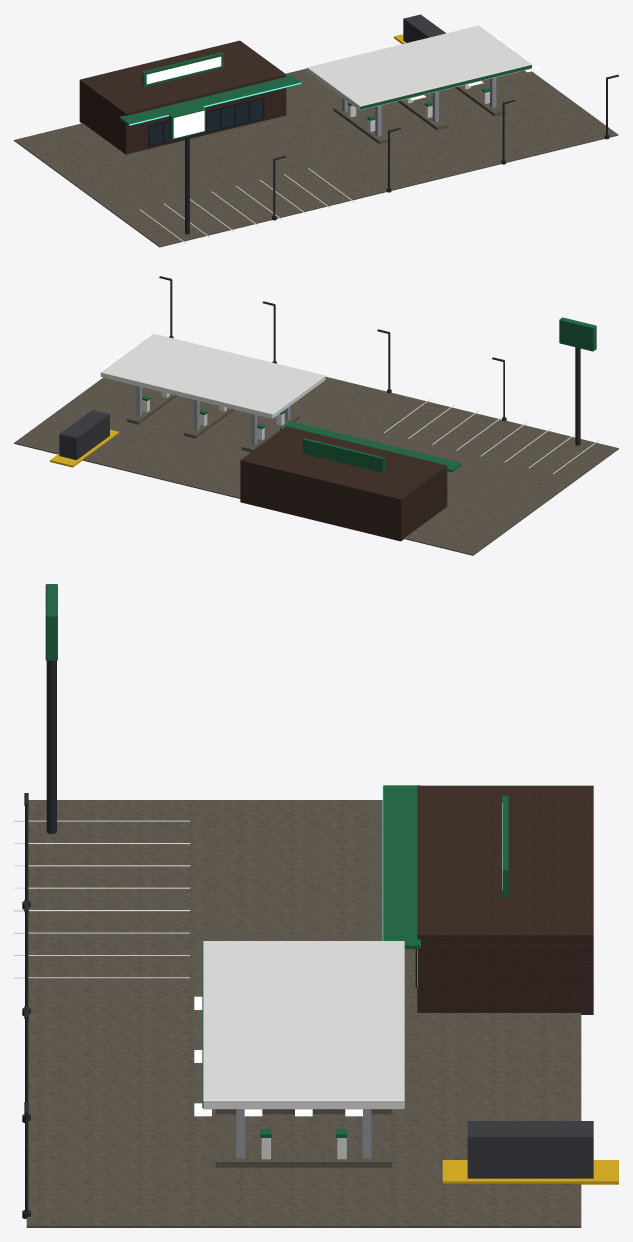
File: OT_TruckStop_A.glb
3 views of the same model, one above another, from view 1: azimuth 30°, elevation 25°; view 2: azimuth 150°, elevation 25°; view 3: azimuth 270°, elevation 25° (orthographic). The views are drawn at different scales.
Visible parts, largest first — view 1: OT_TruckStop_A_Concrete, OT_TruckStop_A_Brick, OT_TruckStop_A_CanopyW__eeeeec, OT_TruckStop_A_TSGreen__1f6b45, OT_TruckStop_A_Glass__22303a, OT_TruckStop_A_SignWhiteGlow__f4f8ff, OT_TruckStop_A_PoleDark__2a2c30.001, OT_TruckStop_A_Scale__3a3d42, OT_TruckStop_A_SteelGrey__9aa0a6, OT_TruckStop_A_PaintWhite__f0f0ee, OT_TruckStop_A_Frame__18191c, OT_TruckStop_A_PoleDark__2a2c30 (+1 smaller); view 2: OT_TruckStop_A_Concrete, OT_TruckStop_A_Brick, OT_TruckStop_A_CanopyW__eeeeec, OT_TruckStop_A_TSGreen__1f6b45, OT_TruckStop_A_Scale__3a3d42, OT_TruckStop_A_PoleDark__2a2c30.001, OT_TruckStop_A_SteelGrey__9aa0a6, OT_TruckStop_A_PaintWhite__f0f0ee, OT_TruckStop_A_PoleDark__2a2c30, OT_TruckStop_A_PumpBody__e9e9e6, OT_TruckStop_A_Yellow__e8b81e; view 3: OT_TruckStop_A_Concrete, OT_TruckStop_A_Brick, OT_TruckStop_A_CanopyW__eeeeec, OT_TruckStop_A_TSGreen__1f6b45, OT_TruckStop_A_Scale__3a3d42, OT_TruckStop_A_PaintWhite__f0f0ee, OT_TruckStop_A_Yellow__e8b81e, OT_TruckStop_A_PoleDark__2a2c30, OT_TruckStop_A_PoleDark__2a2c30.001, OT_TruckStop_A_SteelGrey__9aa0a6, OT_TruckStop_A_LEDPanel__fff4e0.
Part boxes in pixels (x1,y1,x2,y2): OT_TruckStop_A_Concrete: (14,68,618,247); OT_TruckStop_A_Brick: (79,40,286,154); OT_TruckStop_A_CanopyW__eeeeec: (307,25,531,110); OT_TruckStop_A_TSGreen__1f6b45: (119,52,531,140); OT_TruckStop_A_Glass__22303a: (149,99,263,145); OT_TruckStop_A_SignWhiteGlow__f4f8ff: (146,56,221,138); OT_TruckStop_A_PoleDark__2a2c30.001: (272,74,618,220); OT_TruckStop_A_Scale__3a3d42: (403,14,445,42); OT_TruckStop_A_SteelGrey__9aa0a6: (342,77,496,136); OT_TruckStop_A_PaintWhite__f0f0ee: (139,168,354,243); OT_TruckStop_A_Frame__18191c: (148,97,264,146); OT_TruckStop_A_PoleDark__2a2c30: (185,136,189,234); OT_TruckStop_A_Concrete: (14,377,618,555); OT_TruckStop_A_Brick: (240,426,447,541); OT_TruckStop_A_CanopyW__eeeeec: (100,334,325,418); OT_TruckStop_A_TSGreen__1f6b45: (142,317,596,472); OT_TruckStop_A_Scale__3a3d42: (59,410,109,460); OT_TruckStop_A_PoleDark__2a2c30.001: (159,276,506,420); OT_TruckStop_A_SteelGrey__9aa0a6: (136,385,290,444); OT_TruckStop_A_PaintWhite__f0f0ee: (384,399,599,474); OT_TruckStop_A_PoleDark__2a2c30: (575,347,580,445); OT_TruckStop_A_PumpBody__e9e9e6: (142,392,284,440); OT_TruckStop_A_Yellow__e8b81e: (50,429,119,467); OT_TruckStop_A_Concrete: (26,800,581,1227); OT_TruckStop_A_Brick: (417,785,593,1014); OT_TruckStop_A_CanopyW__eeeeec: (203,941,404,1109); OT_TruckStop_A_TSGreen__1f6b45: (45,584,508,1137); OT_TruckStop_A_Scale__3a3d42: (467,1121,593,1178); OT_TruckStop_A_PaintWhite__f0f0ee: (14,820,190,978); OT_TruckStop_A_Yellow__e8b81e: (442,1160,618,1184); OT_TruckStop_A_PoleDark__2a2c30: (46,661,56,833); OT_TruckStop_A_PoleDark__2a2c30.001: (22,793,30,1218); OT_TruckStop_A_SteelGrey__9aa0a6: (236,1109,371,1158); OT_TruckStop_A_LEDPanel__fff4e0: (194,996,362,1116).
Bounding box in the file's own units: 80 × 20.5 × 48.
18 materials, 2 textured.
